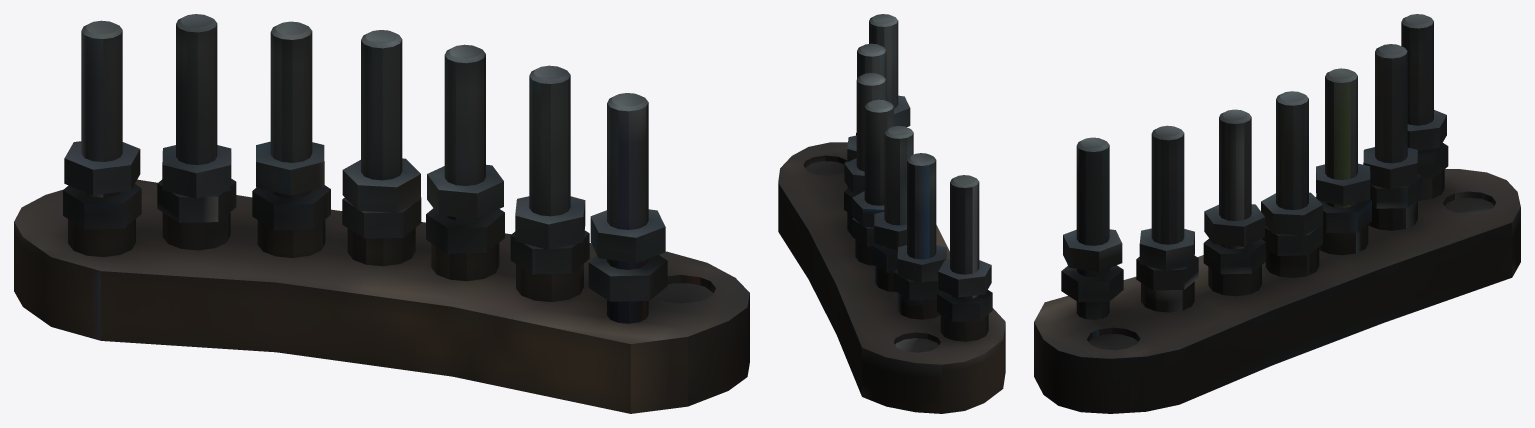
The model's file is pad_b.fbx.
3 views of the same model, side by side, from view 1: azimuth 30°, elevation 25°; view 2: azimuth 150°, elevation 25°; view 3: azimuth 270°, elevation 25° (orthographic). The views are drawn at different scales.
Visible parts, largest first — view 1: pad_b; view 2: pad_b; view 3: pad_b.
Boxes of the visible parts, left/top/right/bottom form: pad_b: left=14, top=14, right=749, bottom=413; pad_b: left=778, top=14, right=1005, bottom=413; pad_b: left=1034, top=14, right=1520, bottom=413.
Bounding box in the file's own units: 0.069 × 0.0381 × 0.0747.
